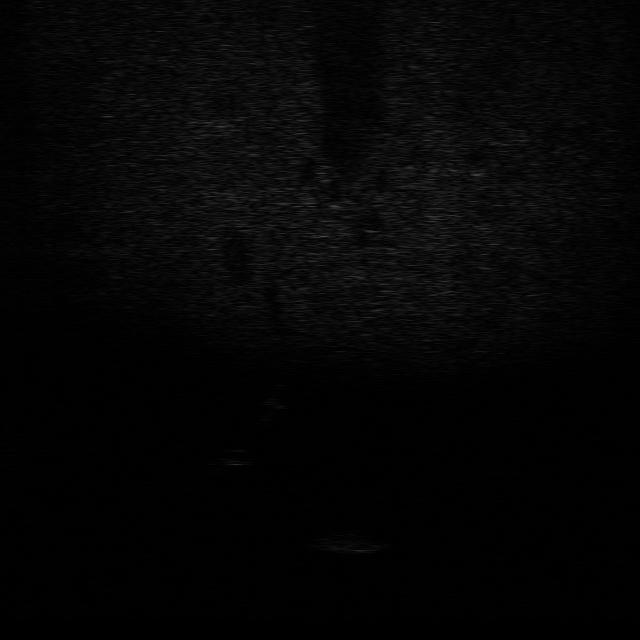ball: (212, 444, 256, 471)
circle cage: (304, 526, 388, 558)
human body: (254, 380, 288, 428)
